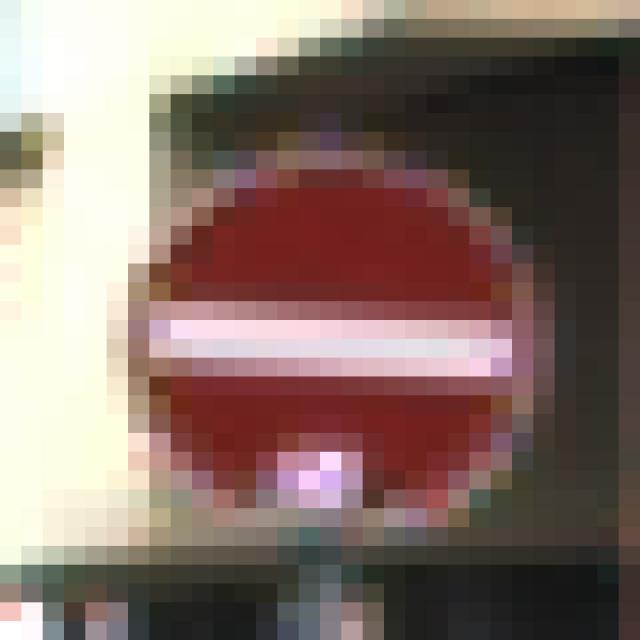No Entry: (108, 114, 534, 547)
